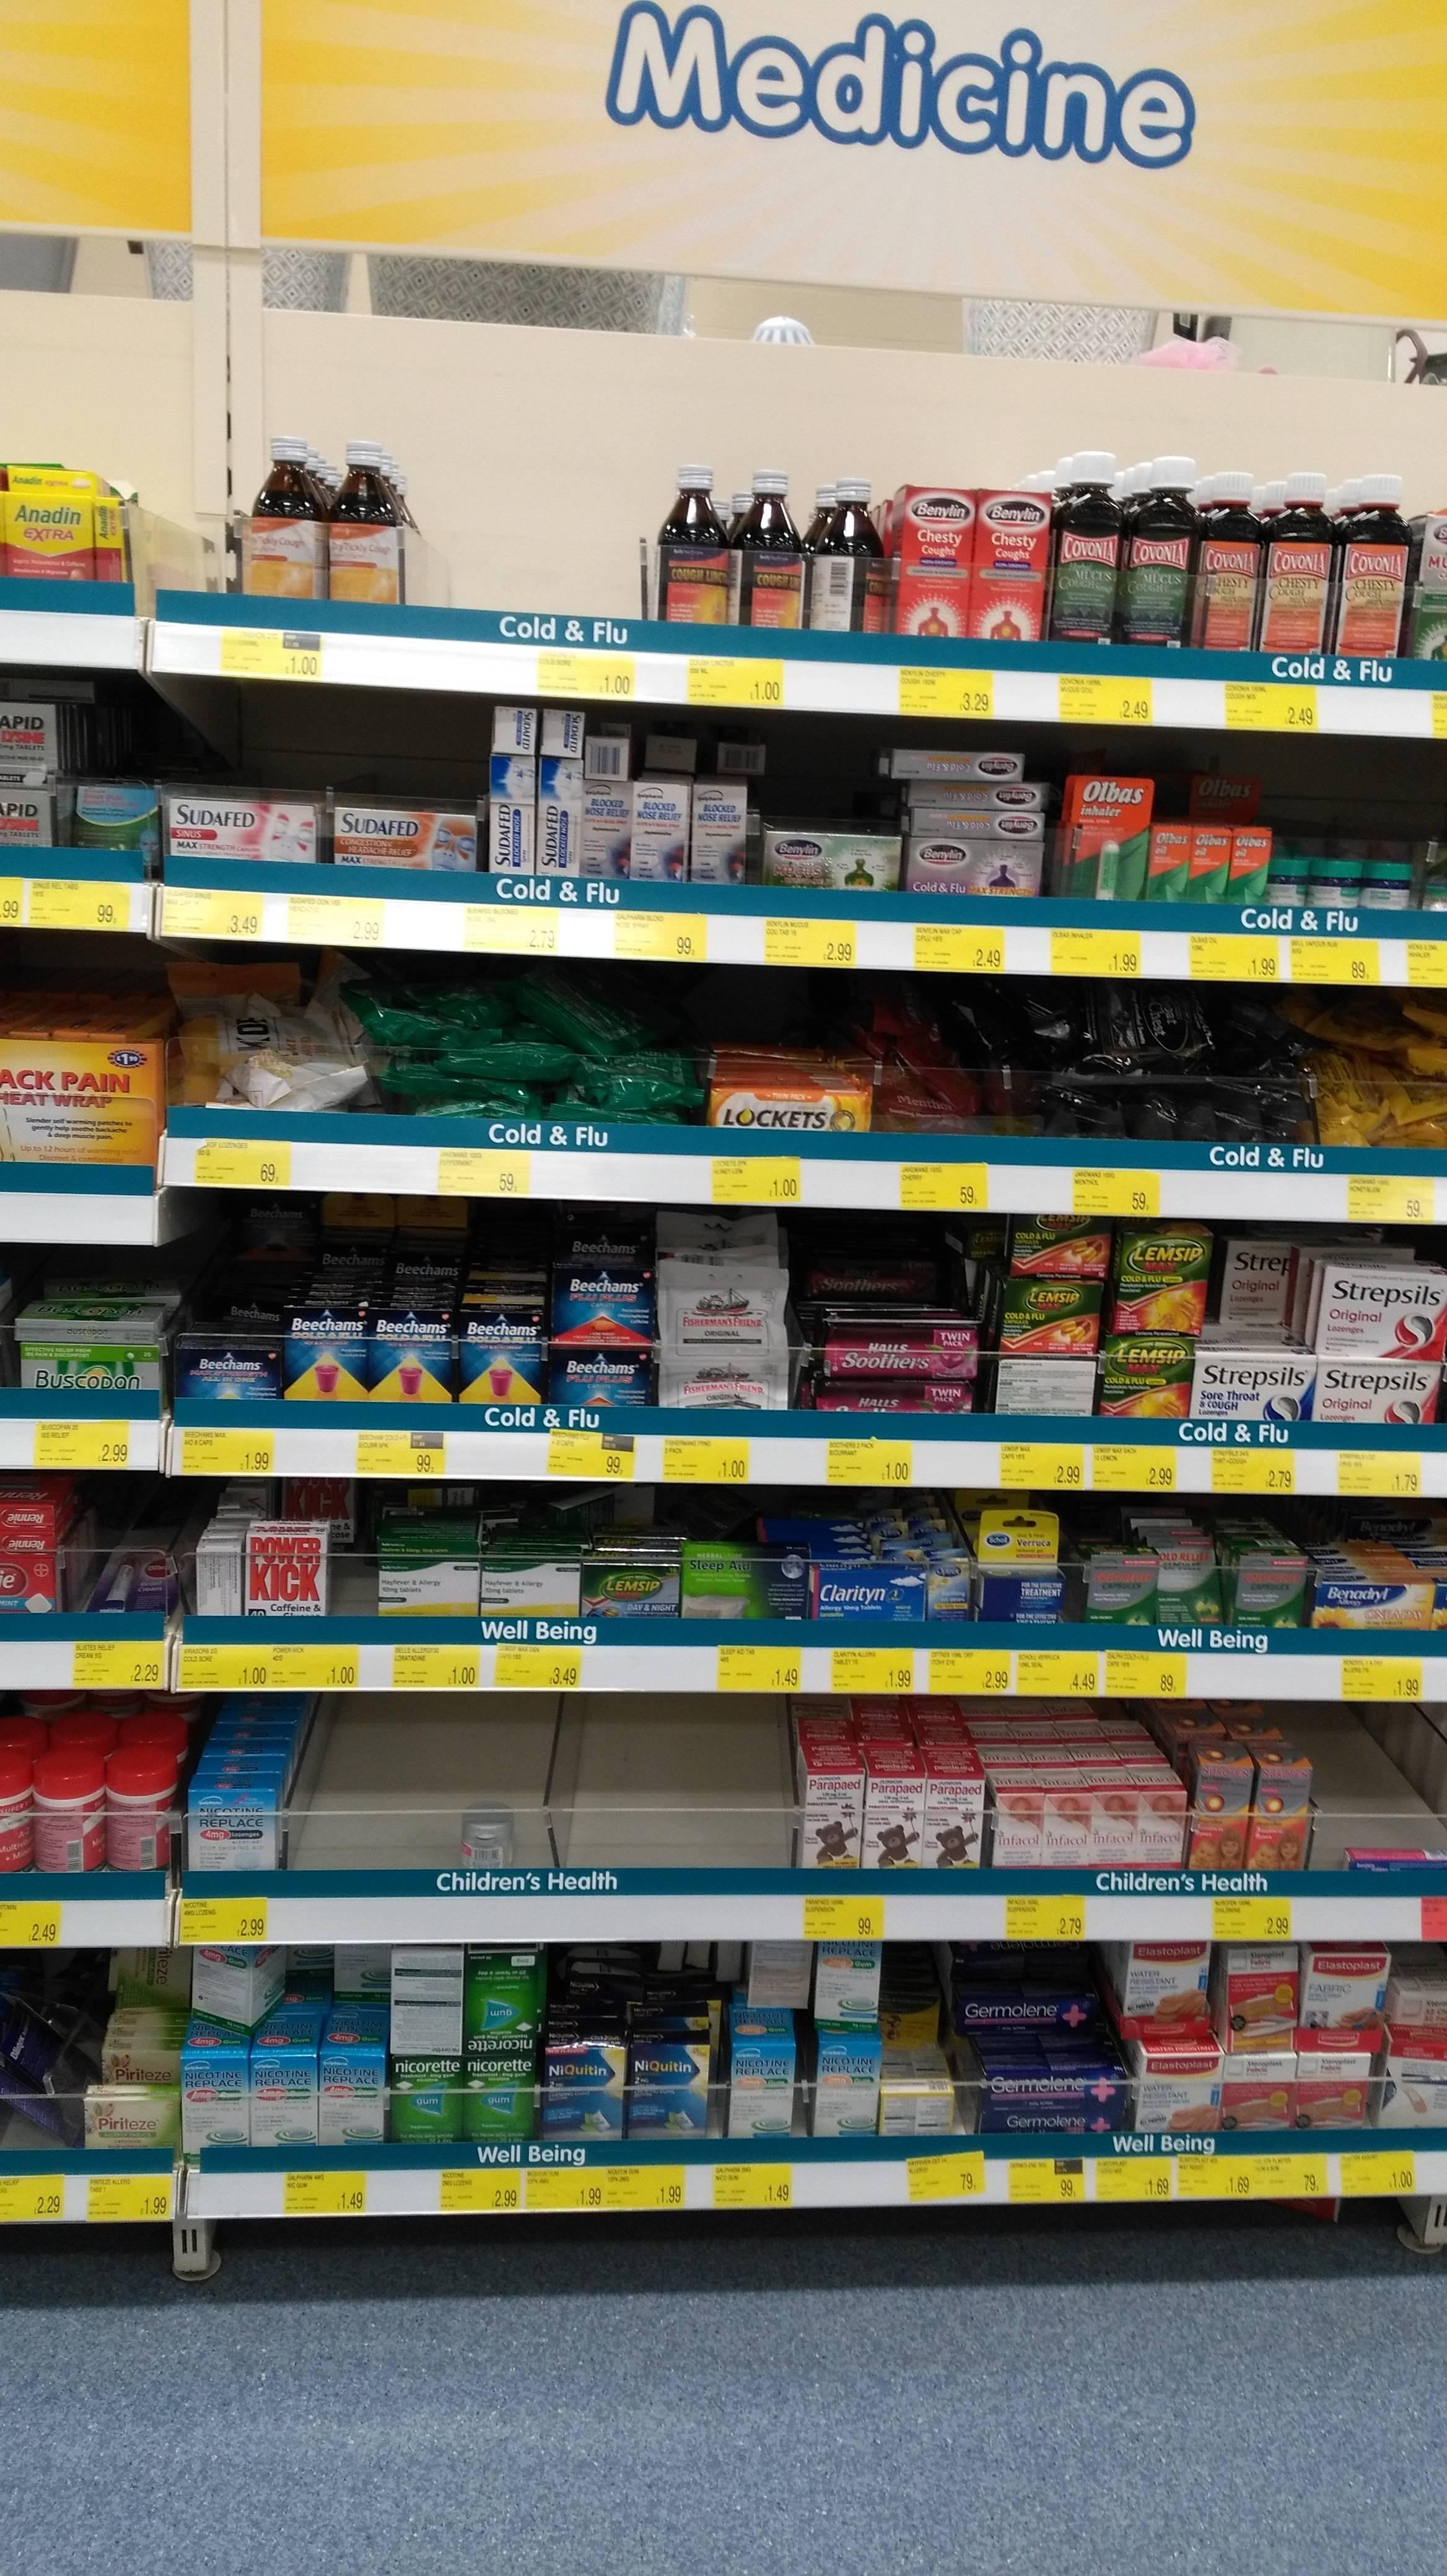empty: (571, 1697, 792, 1863), (426, 508, 646, 616), (310, 1706, 453, 1870)
misalignment: (163, 961, 697, 1118)
